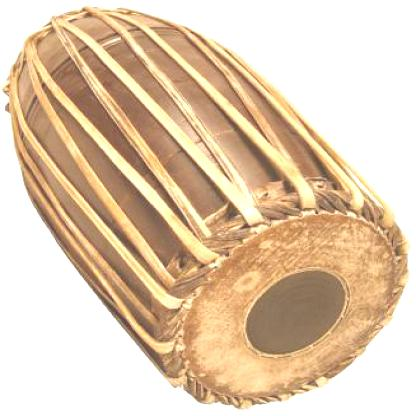Mridangam: (2, 1, 416, 413)
